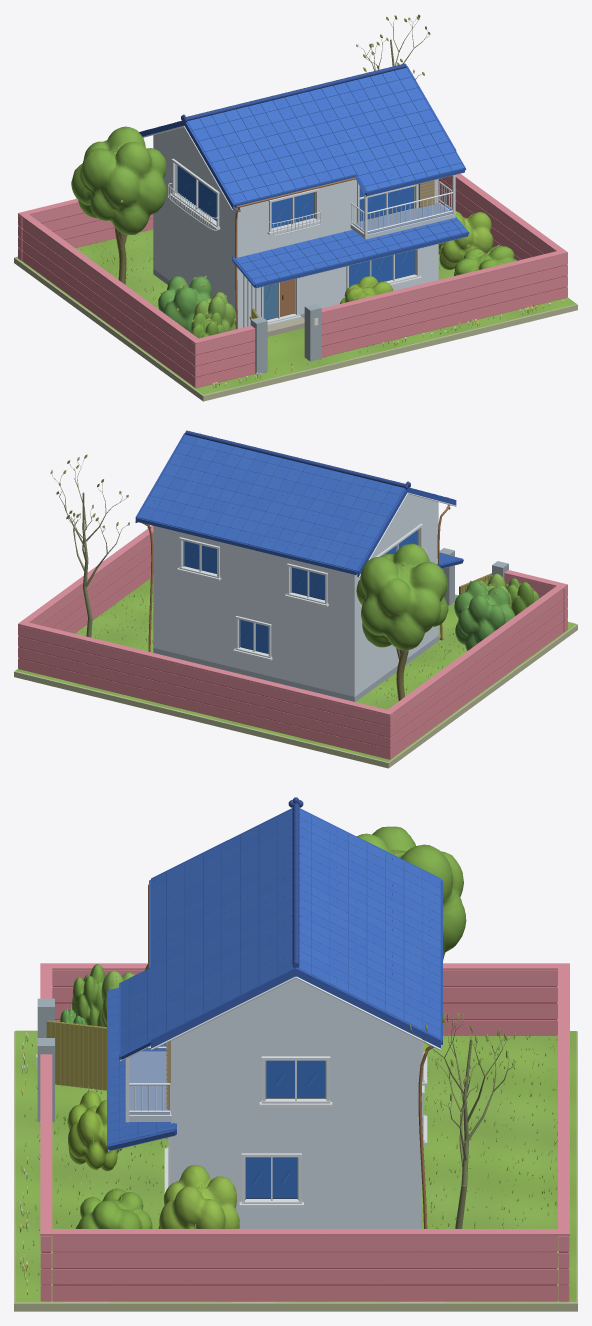
Rendered from tama-house.glb.
3 views of the same model, one above another, from view 1: azimuth 30°, elevation 25°; view 2: azimuth 150°, elevation 25°; view 3: azimuth 270°, elevation 25° (orthographic). The views are drawn at different scales.
Visible parts, largest first — view 1: 蓝瓦主前坡, 庭院植物, 粉色前墙右, 草地与地块, 粉色左院墙, 主屋正面, 左侧山墙立面, 一楼连续蓝瓦雨檐, 粉色右院墙, 粉色前墙左, 粉色后院墙, 右侧阳台 (+11 smaller); view 2: 蓝瓦主后坡, 后墙, 粉色后院墙, 庭院植物, 草地与地块, 粉色左院墙, 粉色右院墙, 左侧山墙立面, 矩形主体基础, 后侧补全窗-2.3, 后侧补全窗2.3, 后侧补全窗0 (+7 smaller); view 3: 草地与地块, 右侧墙, 粉色右院墙, 蓝瓦主前坡, 蓝瓦主后坡, 庭院植物, 粉色左院墙, 侧面三角封板4.3, 加宽灰门柱与半开木门, 粉色后院墙, 一楼连续蓝瓦雨檐, 右侧补全上窗 (+8 smaller).
Part boxes in pixels (bbox=[...]): 蓝瓦主前坡: bbox=[187, 67, 465, 208]; 庭院植物: bbox=[71, 14, 516, 338]; 粉色前墙右: bbox=[321, 249, 567, 357]; 草地与地块: bbox=[14, 229, 577, 401]; 粉色左院墙: bbox=[22, 214, 198, 384]; 主屋正面: bbox=[234, 179, 438, 328]; 左侧山墙立面: bbox=[153, 134, 241, 308]; 一楼连续蓝瓦雨檐: bbox=[232, 205, 469, 288]; 粉色右院墙: bbox=[438, 173, 563, 260]; 粉色前墙左: bbox=[191, 325, 255, 388]; 粉色后院墙: bbox=[18, 198, 153, 260]; 右侧阳台: bbox=[350, 175, 455, 239]; 蓝瓦主后坡: bbox=[137, 434, 404, 575]; 后墙: bbox=[153, 527, 357, 696]; 粉色后院墙: bbox=[18, 621, 394, 759]; 庭院植物: bbox=[50, 454, 539, 700]; 草地与地块: bbox=[14, 576, 577, 768]; 粉色左院墙: bbox=[387, 586, 563, 756]; 粉色右院墙: bbox=[22, 525, 153, 633]; 左侧山墙立面: bbox=[350, 502, 435, 694]; 矩形主体基础: bbox=[153, 636, 438, 701]; 后侧补全窗-2.3: bbox=[284, 563, 328, 607]; 后侧补全窗2.3: bbox=[177, 537, 221, 580]; 后侧补全窗0: bbox=[233, 616, 272, 660]; 草地与地块: bbox=[14, 1030, 577, 1311]; 右侧墙: bbox=[171, 1028, 420, 1228]; 粉色右院墙: bbox=[52, 1229, 557, 1301]; 蓝瓦主前坡: bbox=[119, 809, 294, 1061]; 蓝瓦主后坡: bbox=[297, 809, 442, 1045]; 庭院植物: bbox=[60, 826, 515, 1228]; 粉色左院墙: bbox=[52, 963, 557, 1035]; 侧面三角封板4.3: bbox=[196, 978, 395, 1029]; 加宽灰门柱与半开木门: bbox=[36, 998, 106, 1121]; 粉色后院墙: bbox=[558, 963, 569, 1301]; 一楼连续蓝瓦雨檐: bbox=[107, 987, 176, 1151]; 右侧补全上窗: bbox=[259, 1056, 332, 1107].
Bounding box in the file's own units: 16 × 8.13 × 14.
